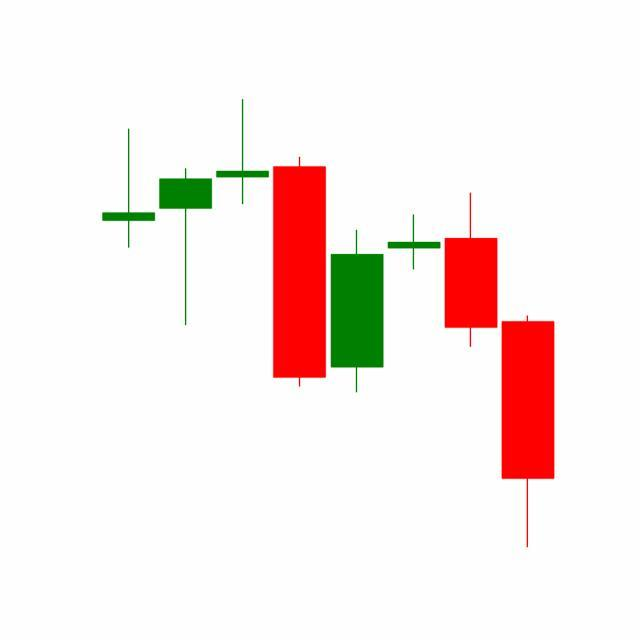Evening Star: (328, 191, 500, 397)
